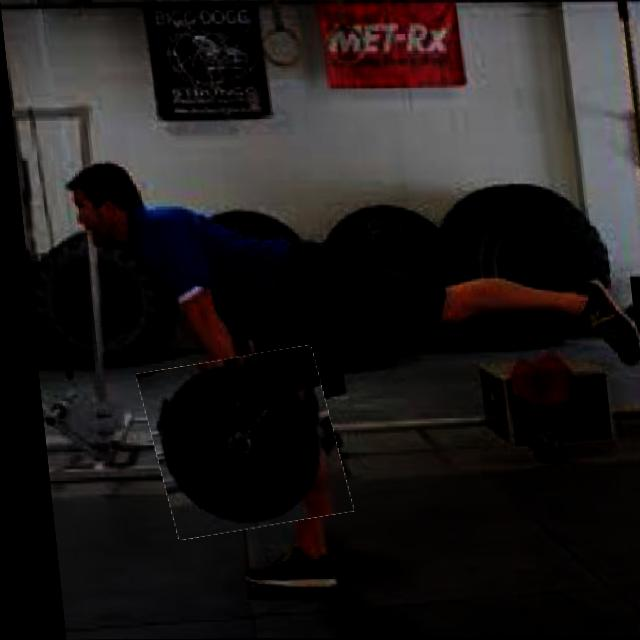barbell: (133, 353, 340, 535)
